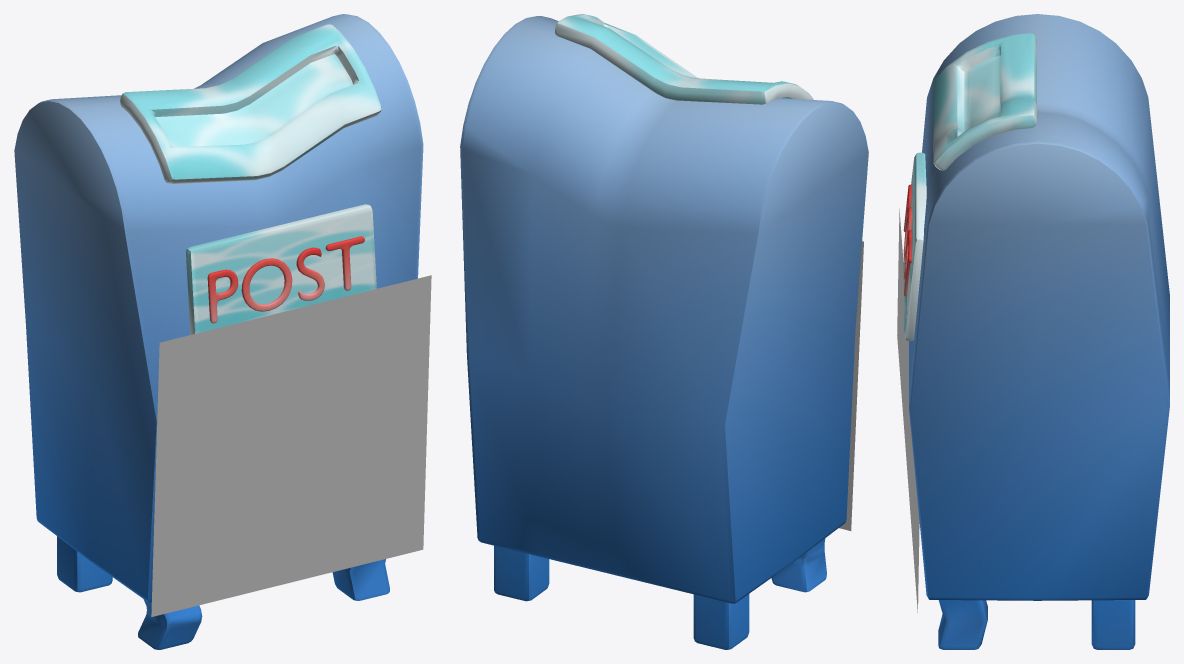
File: Mailbox_B_blue.fbx
3 renders of one model, left to right at view 1: azimuth 30°, elevation 25°; view 2: azimuth 150°, elevation 25°; view 3: azimuth 270°, elevation 25°, orthographic.
Visible parts, largest first — view 1: MailboxB_blue; view 2: MailboxB_blue; view 3: MailboxB_blue.
Boxes of the visible parts, x1,y1,x2,y2 form: MailboxB_blue: (14, 14, 431, 649); MailboxB_blue: (460, 14, 868, 649); MailboxB_blue: (897, 14, 1169, 649).
Size of the model in its own units: 1.37 by 1.09 by 2.35.
